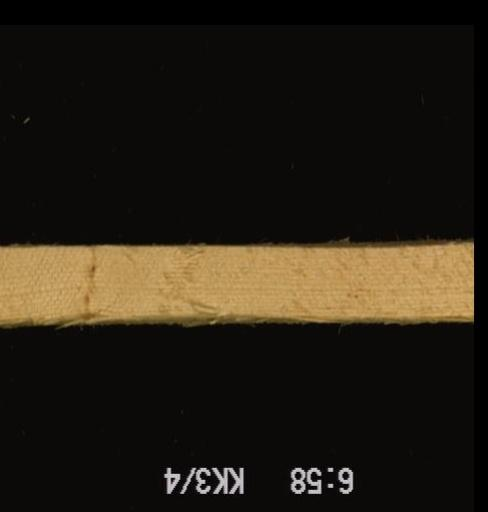small_knot: (60, 247, 107, 312)
